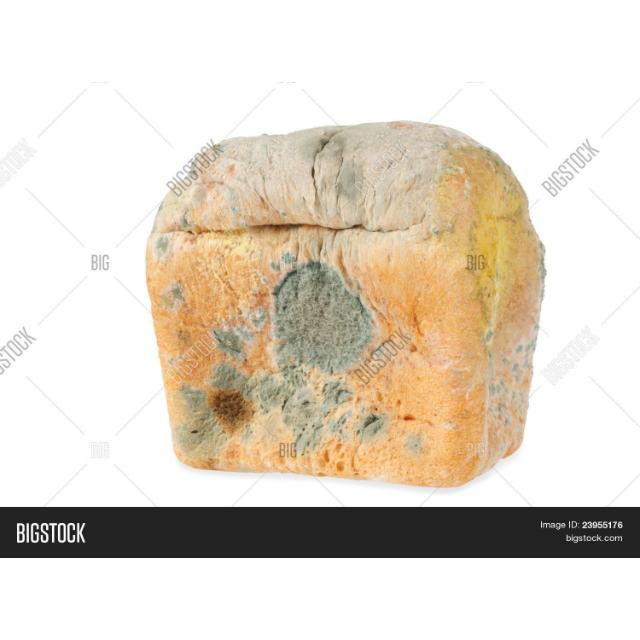organic: (143, 115, 549, 487)
